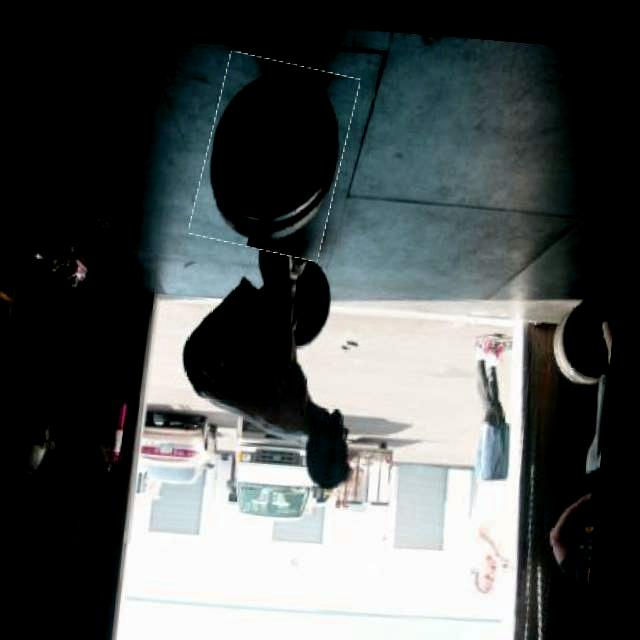barbell: (197, 50, 357, 253)
